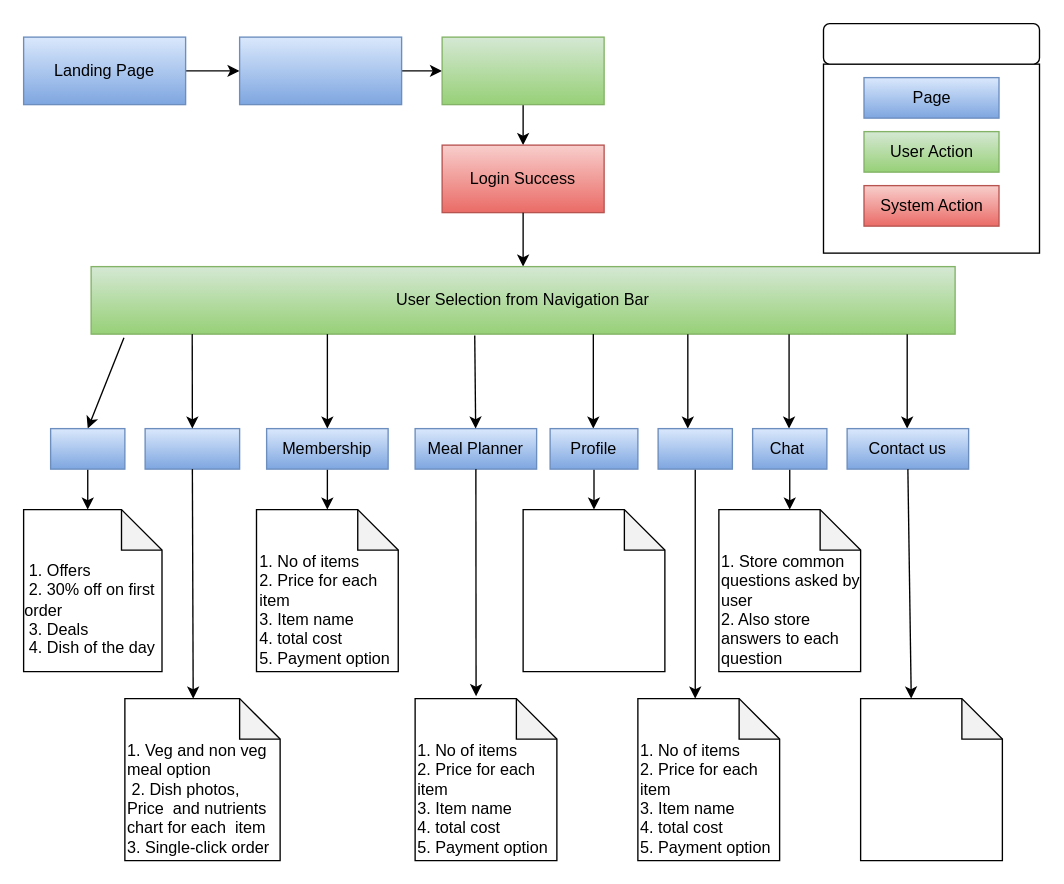
The diagram is 1064 pixels wide and 884 high, and some of its shapes have lost their labels. The centre of each missing label's shape, as x and y in pixels:
1. Email id 2. Contact number 3. Address 4. About us description: (930,779)
1. User name 2. Email id 3. Address to deliver food 4. Diet/ disease: (593,590)
Cart: (694,448)
Enter Credentials: (522,70)
Home: (87,448)
Legend: (931,43)
Login / Register: (320,70)
Menu: (192,448)
